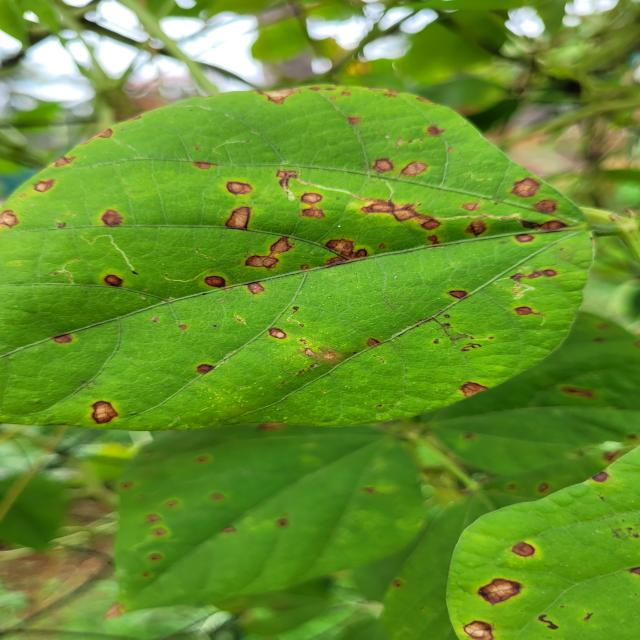Dolicos bean_cercospora leaf spot: (0, 85, 596, 428), (99, 402, 436, 606), (370, 300, 640, 480), (441, 484, 640, 640)
